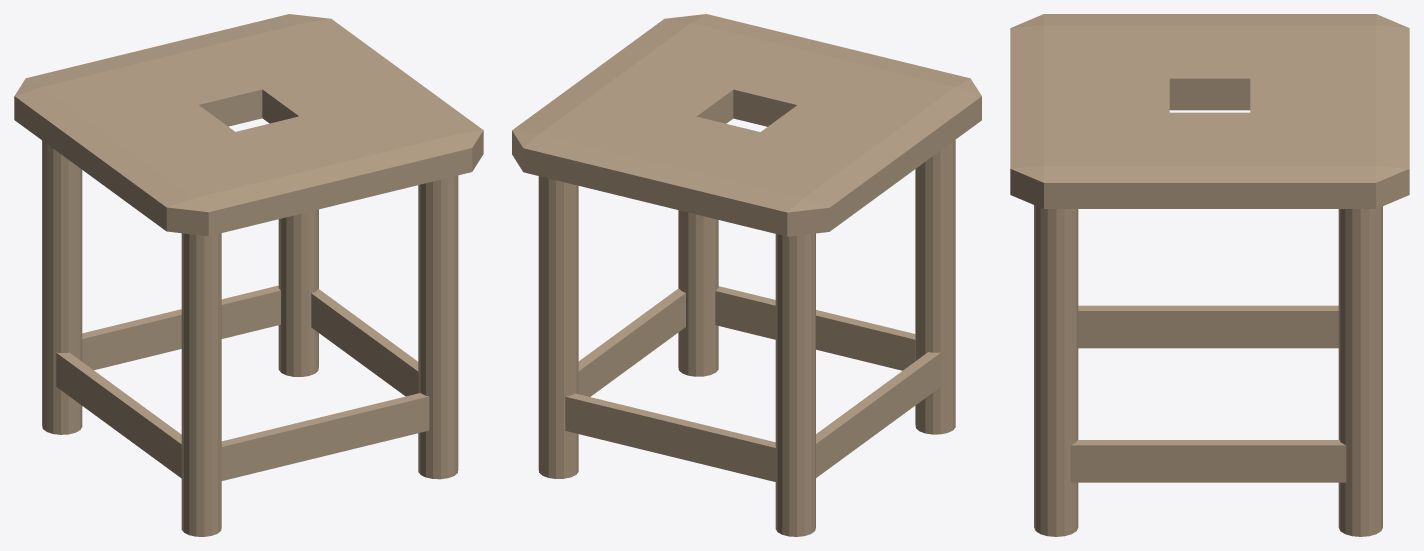
File: Stool Unwrap.fbx
3 renders of one model, left to right at view 1: azimuth 30°, elevation 25°; view 2: azimuth 150°, elevation 25°; view 3: azimuth 270°, elevation 25°, orthographic. The views are drawn at different scales.
Parts seen in each view (by area): view 1: Cube.001; view 2: Cube.001; view 3: Cube.001.
Part boxes in pixels (bbox=[...]): Cube.001: bbox=[14, 14, 483, 536]; Cube.001: bbox=[512, 14, 981, 536]; Cube.001: bbox=[1010, 14, 1409, 536].
Size of the model in its own units: 200 by 204 by 200.
